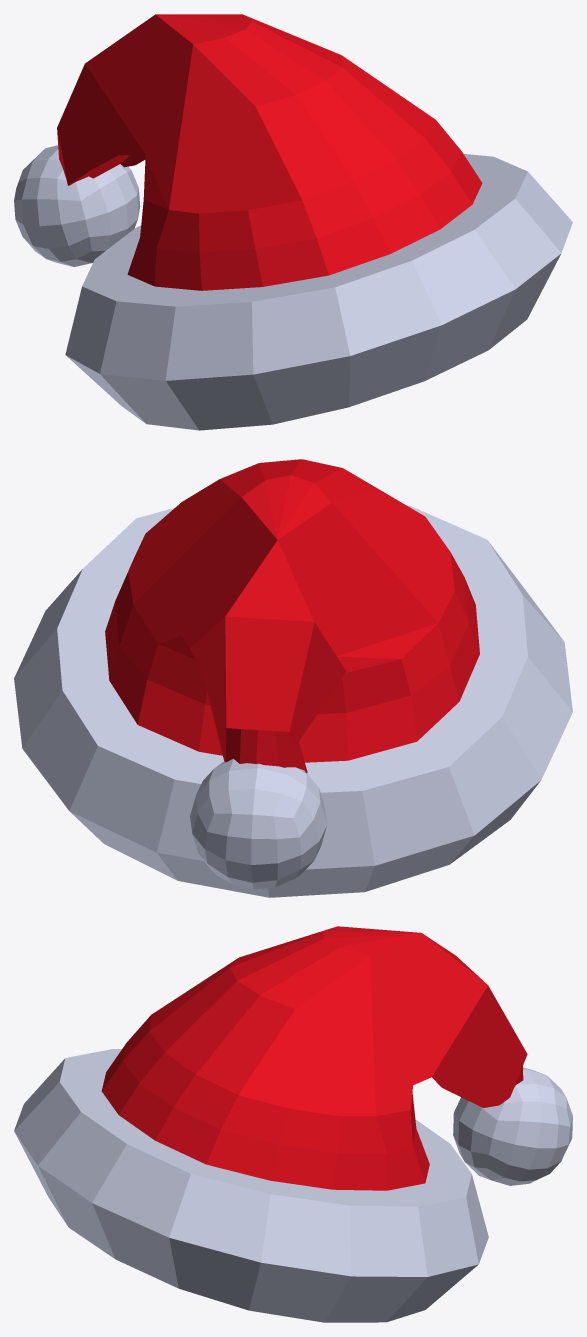
The model's file is gorro.fbx.
3 renders of one model, top to bottom at view 1: azimuth 30°, elevation 25°; view 2: azimuth 150°, elevation 25°; view 3: azimuth 270°, elevation 25°, orthographic. The views are drawn at different scales.
Parts seen in each view (by area): view 1: gorro; view 2: gorro; view 3: gorro.
Boxes of the visible parts, bbox=[...] form: gorro: bbox=[14, 14, 572, 430]; gorro: bbox=[14, 459, 572, 897]; gorro: bbox=[14, 926, 572, 1322].
Size of the model in its own units: 44.04 by 32.67 by 49.83.
